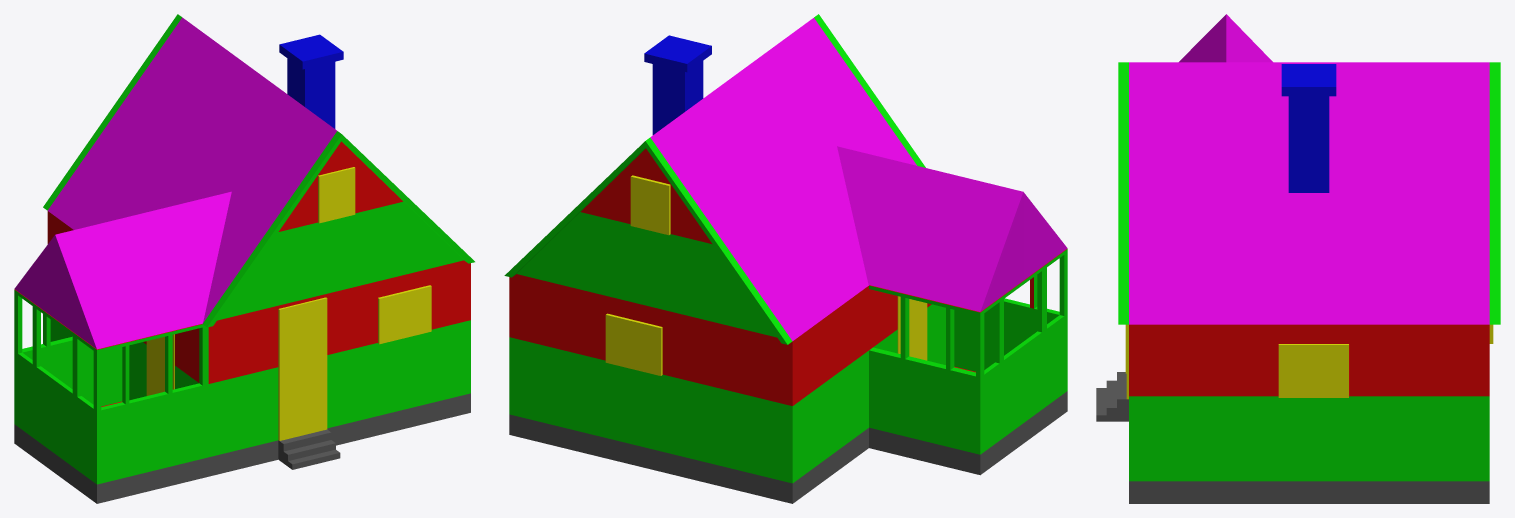
The model's file is Casa Maior ST.fbx.
3 renders of one model, left to right at view 1: azimuth 30°, elevation 25°; view 2: azimuth 150°, elevation 25°; view 3: azimuth 270°, elevation 25°, orthographic. The views are drawn at different scales.
Parts seen in each view (by area): view 1: Casa_Maior, Porta_1, CM_Janela_do_topo_1, CM_Janela_1, CM_Janela_2, Porta_2; view 2: Casa_Maior, CM_Janela_do_topo_2, CM_Janela_1, CM_Janela_2, Porta_2; view 3: Casa_Maior, CM_Janela_2, CM_Janela_1.
Boxes of the visible parts, x1,y1,x2,y2 form: Casa_Maior: [14, 14, 474, 503]; Porta_1: [278, 297, 327, 440]; CM_Janela_do_topo_1: [318, 167, 355, 223]; CM_Janela_1: [378, 291, 405, 344]; CM_Janela_2: [404, 285, 431, 337]; Porta_2: [146, 334, 174, 395]; Casa_Maior: [504, 14, 1067, 503]; CM_Janela_do_topo_2: [630, 175, 670, 235]; CM_Janela_1: [633, 320, 662, 375]; CM_Janela_2: [605, 313, 634, 369]; Porta_2: [897, 296, 927, 360]; Casa_Maior: [1096, 14, 1500, 503]; CM_Janela_2: [1313, 344, 1348, 397]; CM_Janela_1: [1278, 344, 1313, 397].
Size of the model in its own units: 630 by 526 by 504.
